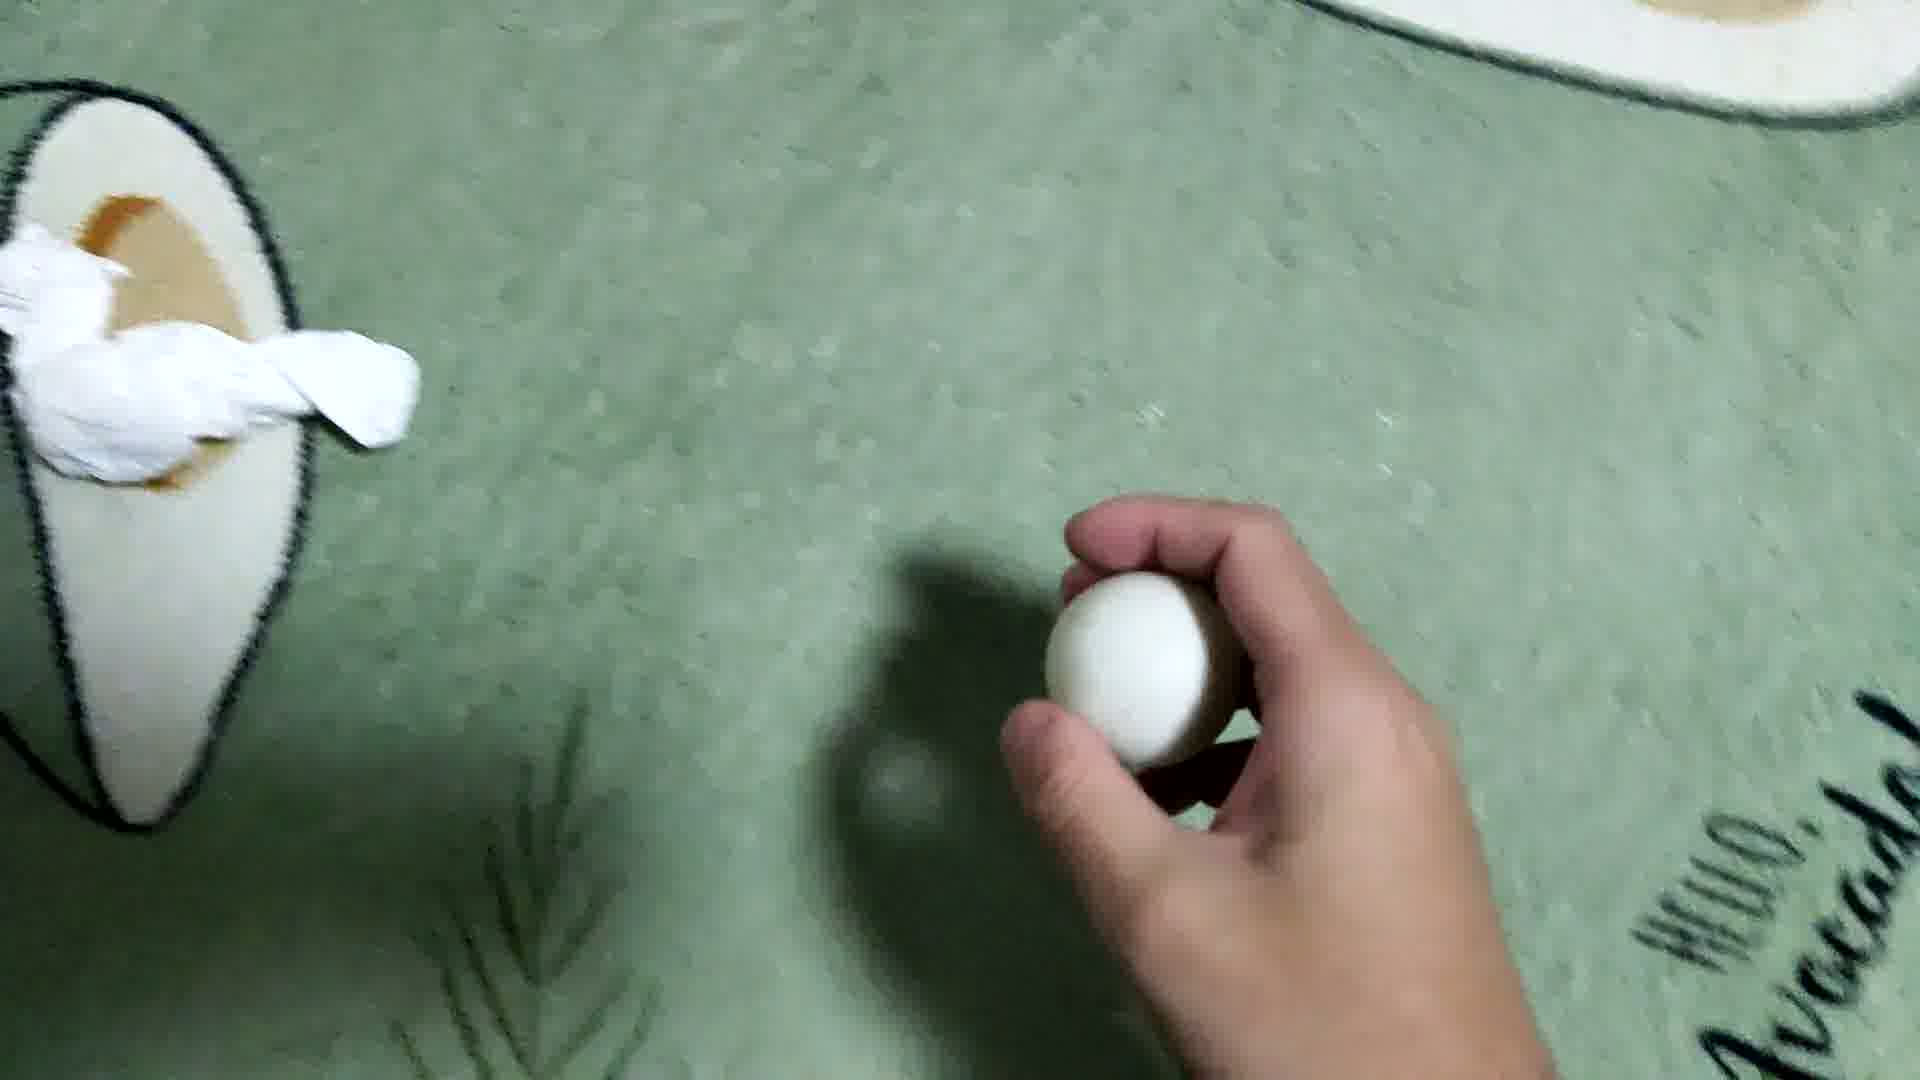Ball: (1040, 571, 1236, 771)
